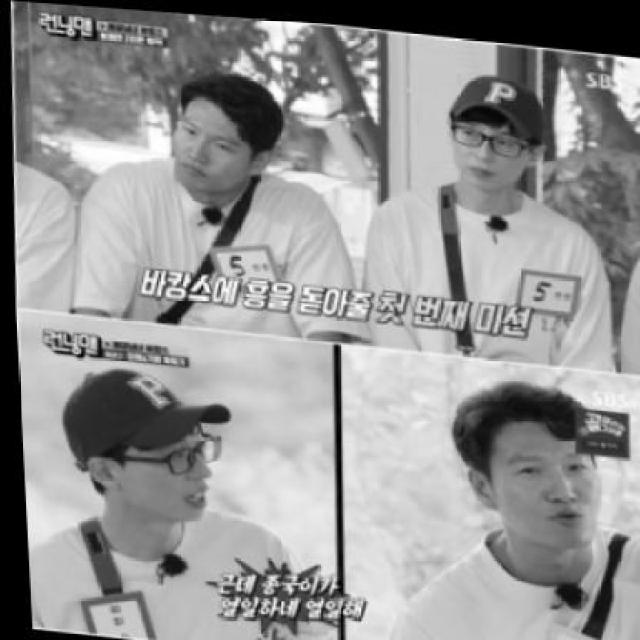hat: (52, 362, 234, 486), (442, 61, 552, 139)
